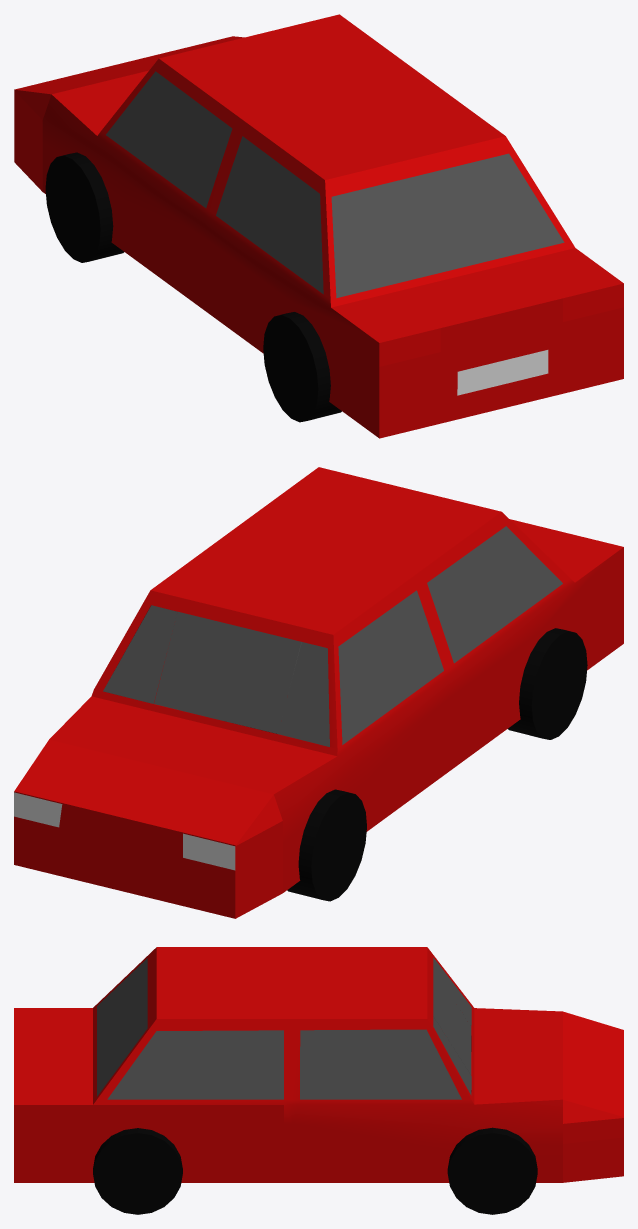
File: carRed.fbx
3 renders of one model, top to bottom at view 1: azimuth 30°, elevation 25°; view 2: azimuth 150°, elevation 25°; view 3: azimuth 270°, elevation 25°, orthographic. The views are drawn at different scales.
Visible parts, largest first — view 1: pasted__pCube1, pasted__pasted__pCylinder1, pasted__pCylinder1; view 2: pasted__pCube1, pasted__pCylinder1, pasted__pasted__pCylinder1; view 3: pasted__pCube1, pasted__pasted__pasted__pCylinder1, pasted__pasted__pasted__pasted__pCylinder1.
Boxes of the visible parts, <box> form: pasted__pCube1: <box>14,14,623,438</box>; pasted__pasted__pCylinder1: <box>45,152,123,262</box>; pasted__pCylinder1: <box>263,312,341,422</box>; pasted__pCube1: <box>14,467,623,918</box>; pasted__pCylinder1: <box>508,628,587,739</box>; pasted__pasted__pCylinder1: <box>287,789,366,901</box>; pasted__pCube1: <box>14,947,623,1182</box>; pasted__pasted__pasted__pCylinder1: <box>447,1127,537,1214</box>; pasted__pasted__pasted__pasted__pCylinder1: <box>93,1128,182,1214</box>.
Bounding box in the file's own units: 4.3 × 3.32 × 10.29.
